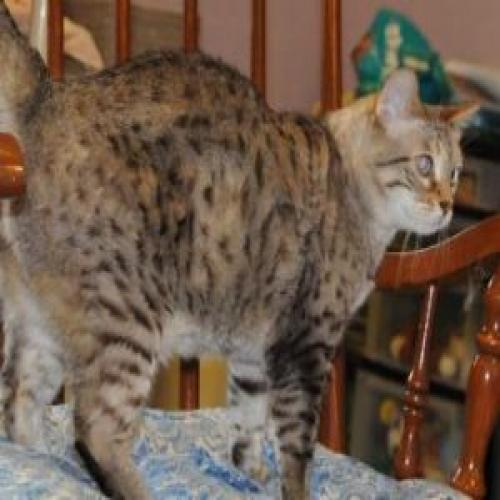cat-face: (352, 67, 481, 244)
